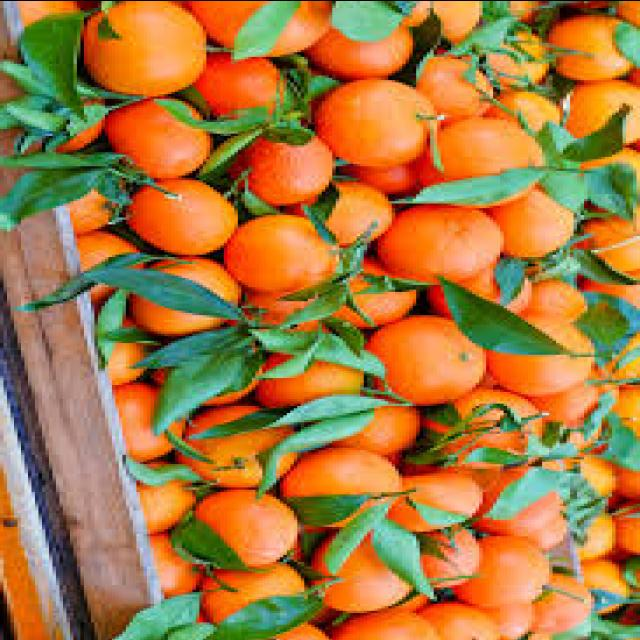orange: (362, 317, 476, 407)
